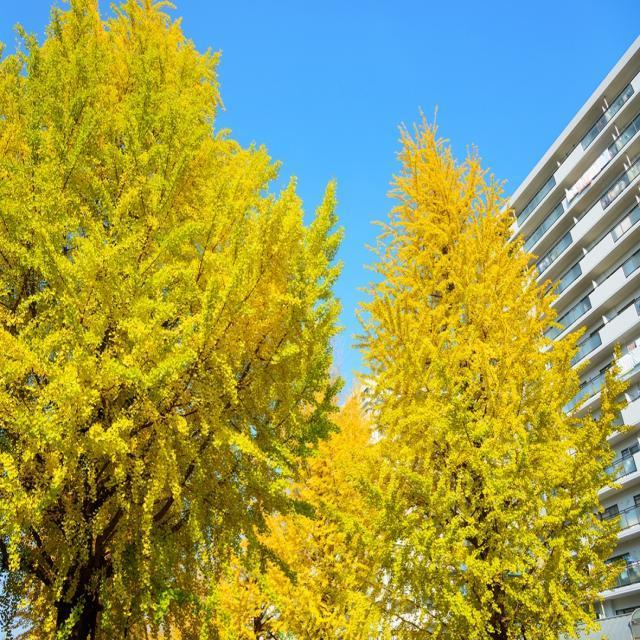tree: (0, 1, 347, 640), (338, 111, 636, 640), (260, 349, 414, 640)
